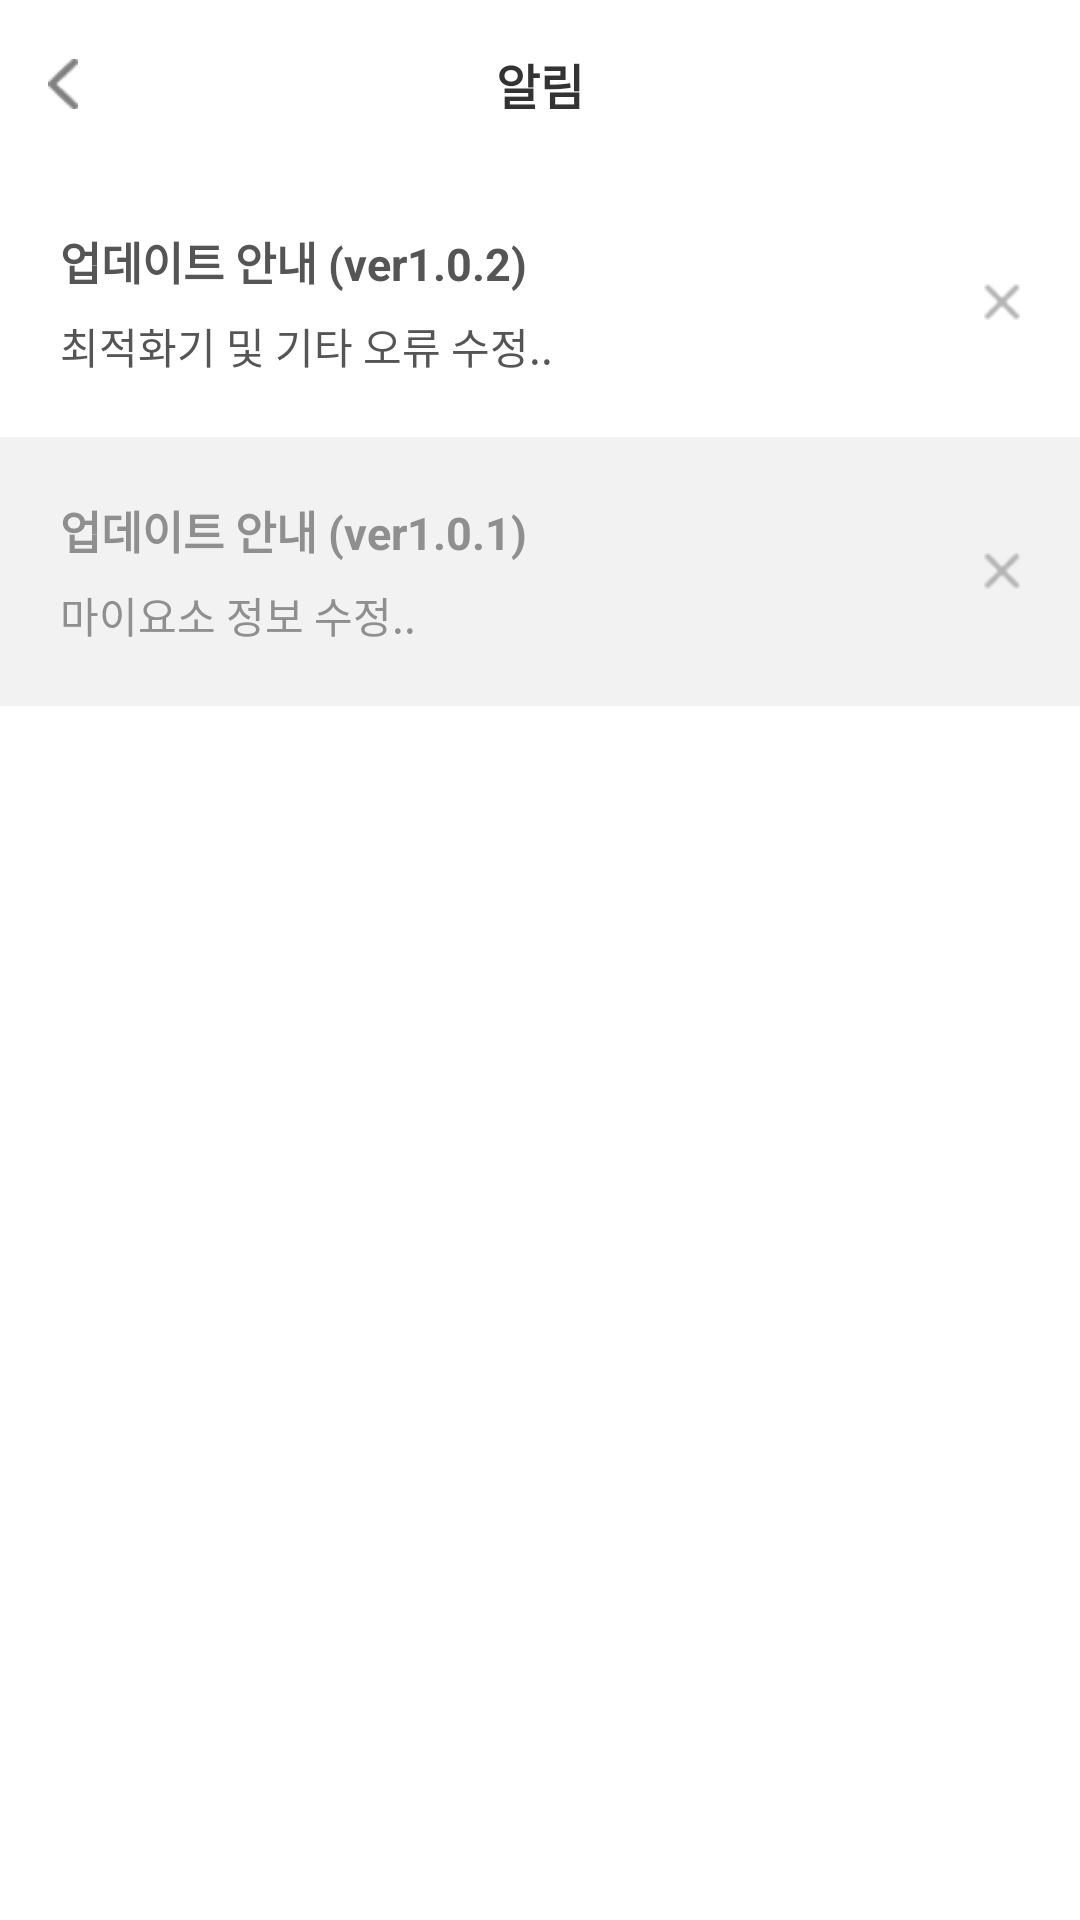

Icon bounding boxes for this 1080 × 1920 phone screenshot, format region(x1, y1, x2, y2):
camera result back: region(48, 59, 78, 109)
